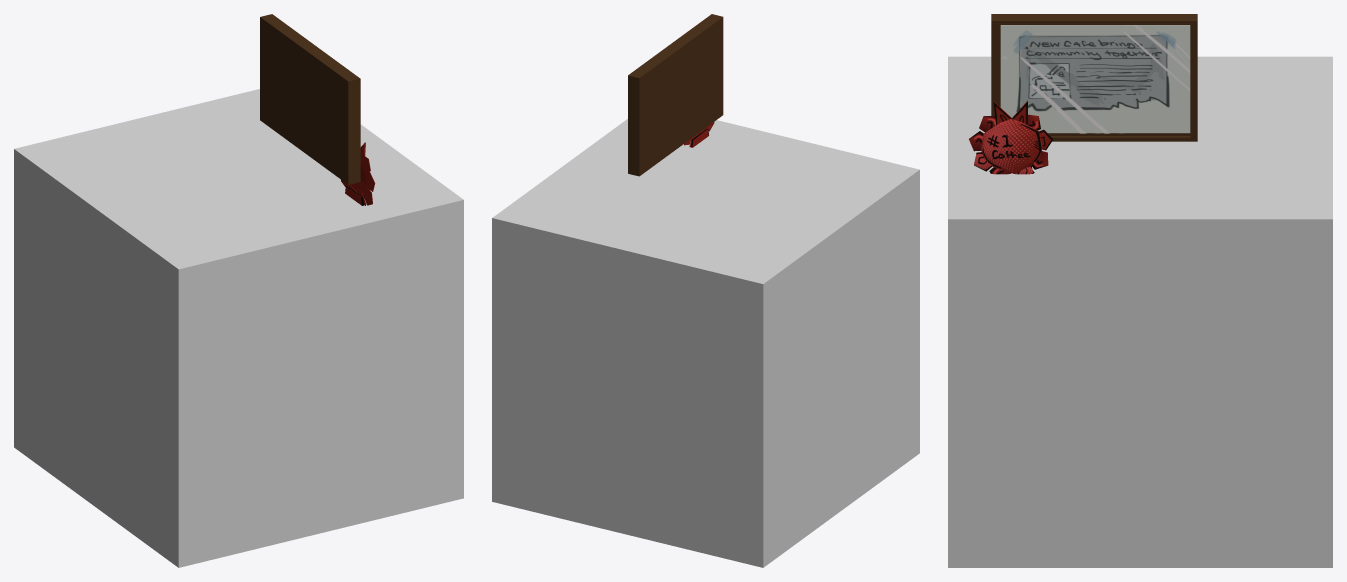
File: Newspaper (1).glb
3 views of the same model, side by side, from view 1: azimuth 30°, elevation 25°; view 2: azimuth 150°, elevation 25°; view 3: azimuth 270°, elevation 25° (orthographic). The views are drawn at different scales.
Visible parts, largest first — view 1: Cube, Icosphere.006; view 2: Cube, Icosphere.006; view 3: Cube, Icosphere.006.
Boxes of the visible parts, x1,y1,x2,y2 form: Cube: (14, 89, 463, 567); Icosphere.006: (260, 14, 375, 205); Cube: (492, 119, 919, 567); Icosphere.006: (628, 14, 723, 176); Cube: (948, 56, 1332, 567); Icosphere.006: (969, 14, 1197, 174).
Bounding box in the file's own units: 2 × 2.86 × 2.
2 materials, 1 textured.
